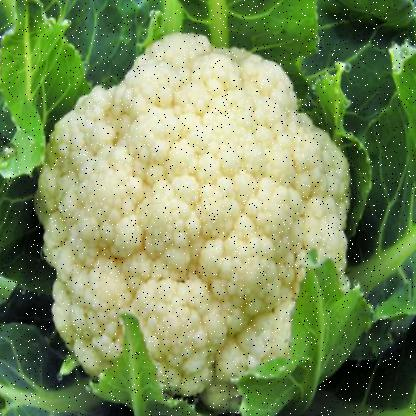cauliflower: (34, 29, 358, 390)
